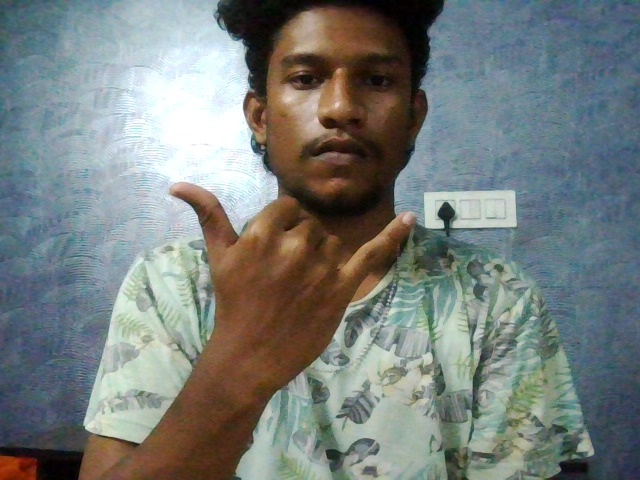good luck: (126, 154, 434, 422)
